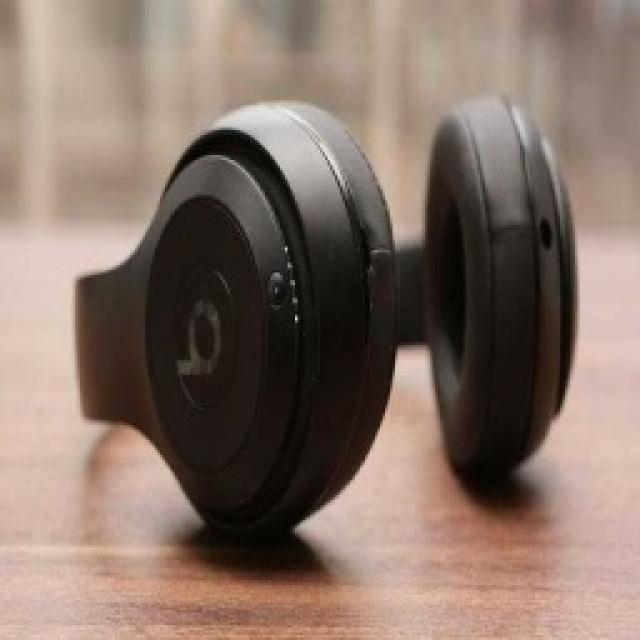headphones: (72, 90, 580, 540)
